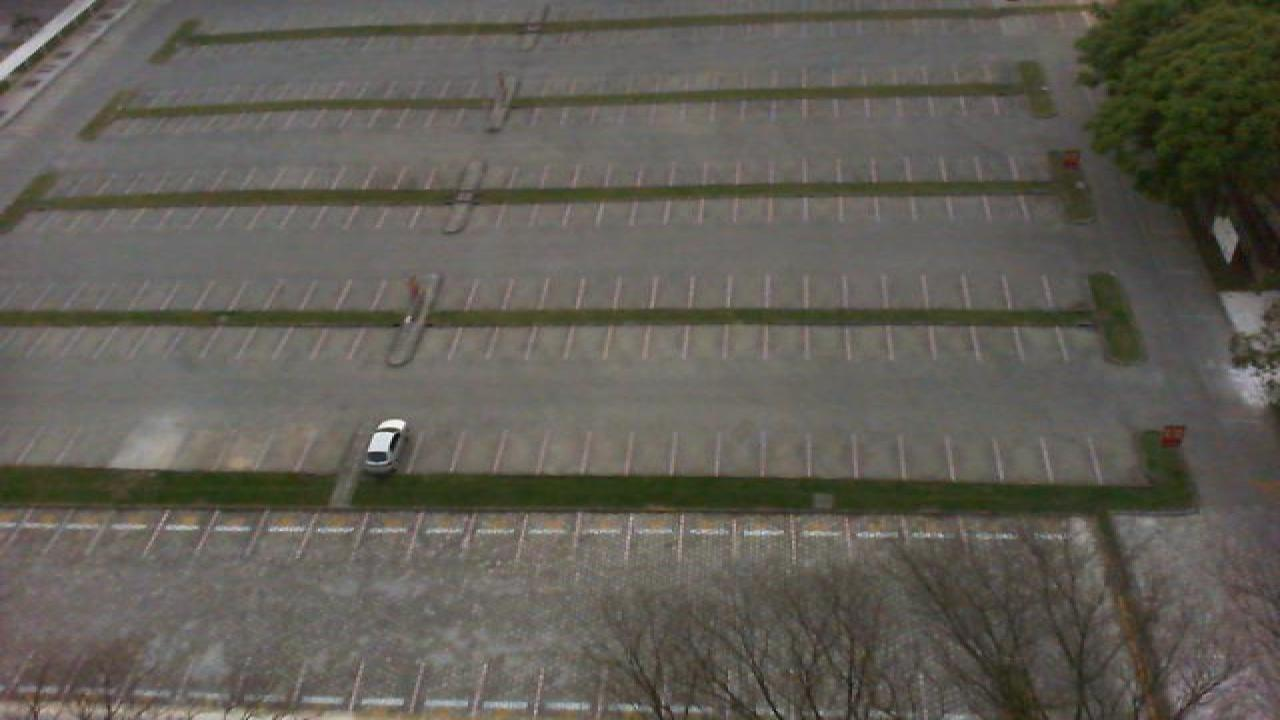Car: (360, 417, 408, 476)
